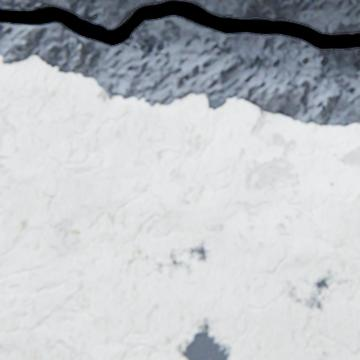broken_brick: (0, 56, 359, 359)
crack: (0, 0, 359, 49)
